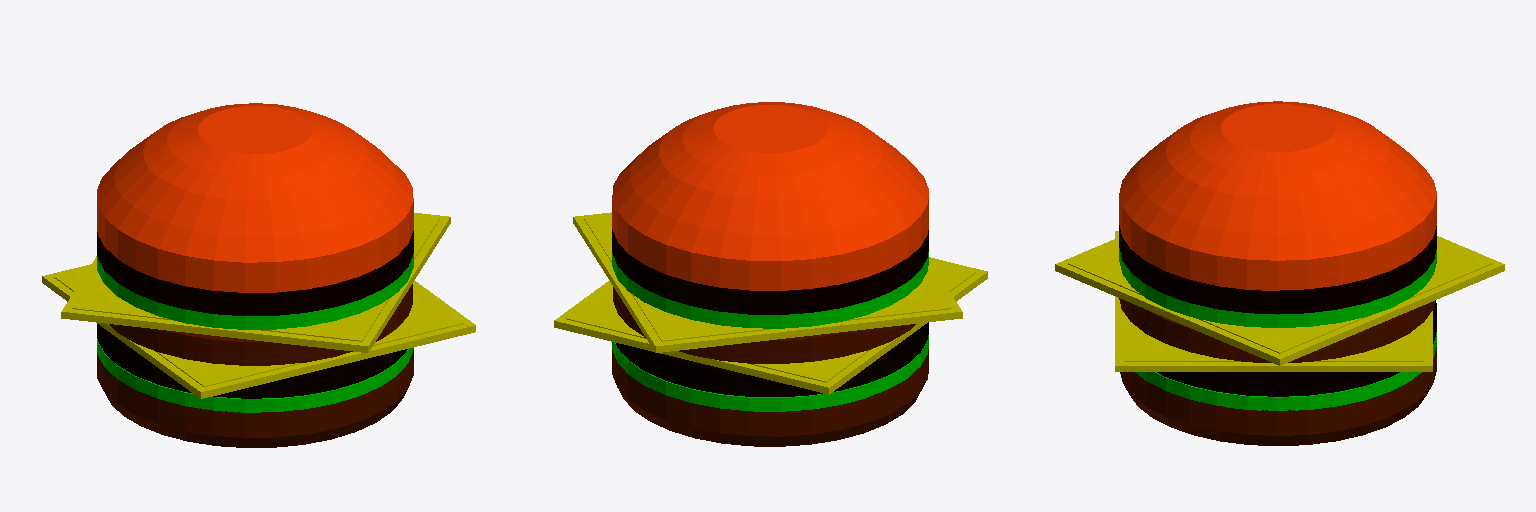
Rendered from burger.obj.
3 views of the same model, side by side, from view 1: azimuth 30°, elevation 25°; view 2: azimuth 150°, elevation 25°; view 3: azimuth 270°, elevation 25° (orthographic).
Parts seen in each view (by area): view 1: TopBun_Cylinder.008, BottomBun_Cylinder, TopCheese_Plane.001, BottomCheese_Plane, TopMeat_Cylinder.002, MiddleBun_Cylinder.005, Meat_Cylinder.004, Salad_Cylinder.001, Salad.002_Cylinder.006; view 2: TopBun_Cylinder.008, BottomBun_Cylinder, TopCheese_Plane.001, BottomCheese_Plane, TopMeat_Cylinder.002, Meat_Cylinder.004, MiddleBun_Cylinder.005, Salad_Cylinder.001, Salad.002_Cylinder.006; view 3: TopBun_Cylinder.008, TopCheese_Plane.001, BottomBun_Cylinder, TopMeat_Cylinder.002, BottomCheese_Plane, MiddleBun_Cylinder.005, Meat_Cylinder.004, Salad.002_Cylinder.006, Salad_Cylinder.001.
Part boxes in pixels (x1,y1,x2,y2): TopBun_Cylinder.008: (97, 103, 413, 292); BottomBun_Cylinder: (97, 350, 413, 447); TopCheese_Plane.001: (61, 213, 450, 352); BottomCheese_Plane: (42, 264, 475, 398); TopMeat_Cylinder.002: (97, 231, 413, 315); MiddleBun_Cylinder.005: (109, 284, 412, 365); Meat_Cylinder.004: (97, 324, 407, 398); Salad_Cylinder.001: (97, 339, 413, 412); Salad.002_Cylinder.006: (97, 254, 413, 329); TopBun_Cylinder.008: (612, 102, 928, 290); BottomBun_Cylinder: (612, 349, 928, 446); TopCheese_Plane.001: (573, 212, 962, 352); BottomCheese_Plane: (554, 257, 987, 394); TopMeat_Cylinder.002: (612, 229, 928, 314); Meat_Cylinder.004: (616, 322, 928, 396); MiddleBun_Cylinder.005: (613, 287, 915, 363); Salad_Cylinder.001: (612, 335, 928, 411); Salad.002_Cylinder.006: (612, 252, 928, 328); TopBun_Cylinder.008: (1119, 101, 1436, 290); TopCheese_Plane.001: (1055, 236, 1504, 365); BottomBun_Cylinder: (1120, 347, 1436, 445); TopMeat_Cylinder.002: (1119, 225, 1436, 314); BottomCheese_Plane: (1115, 231, 1432, 371); MiddleBun_Cylinder.005: (1119, 298, 1434, 362); Meat_Cylinder.004: (1157, 300, 1436, 396); Salad.002_Cylinder.006: (1119, 248, 1436, 327); Salad_Cylinder.001: (1135, 332, 1436, 410).
Size of the model in its own units: 89.1 by 55.59 by 89.1.